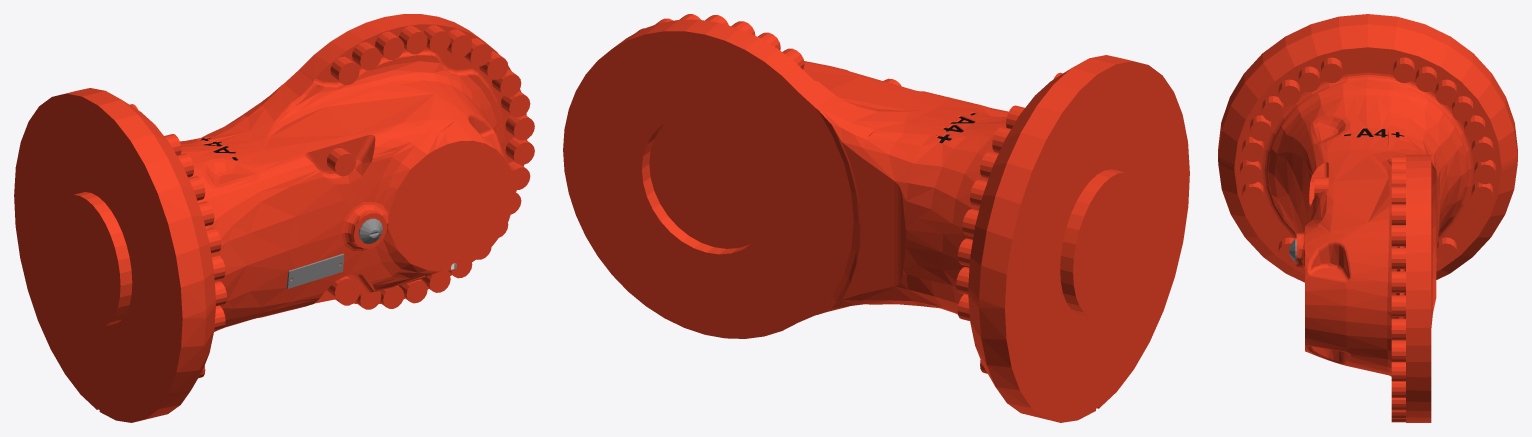
3 views of the same model, side by side, from view 1: azimuth 30°, elevation 25°; view 2: azimuth 150°, elevation 25°; view 3: azimuth 270°, elevation 25° (orthographic). The views are drawn at different scales.
Parts seen in each view (by area): view 1: link_4; view 2: link_4; view 3: link_4.
Part boxes in pixels (bbox=[...]): link_4: bbox=[14, 14, 534, 422]; link_4: bbox=[563, 14, 1189, 422]; link_4: bbox=[1218, 14, 1517, 422].
Bounding box in the file's own units: 0.3932 × 0.248 × 0.248.
